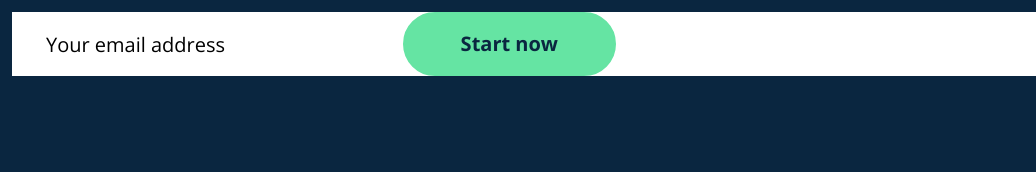
SignupForm › shows an error for an invalid email address
Type "not-an-email" into the field labelled "email address". click: (195, 44)
box: top-left (12, 16), bottom-right (379, 72)
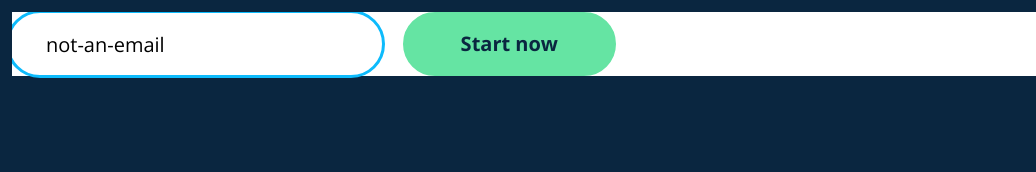
Click the button "Start now". click: (509, 44)
box: top-left (403, 12), bottom-right (616, 76)
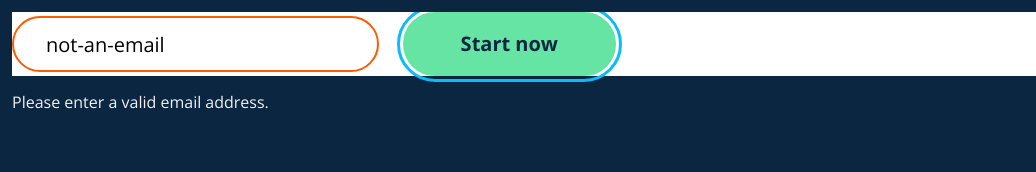
Expected: the message reads "Please enter a valid email address.", top-left (12, 91), bottom-right (269, 113)
